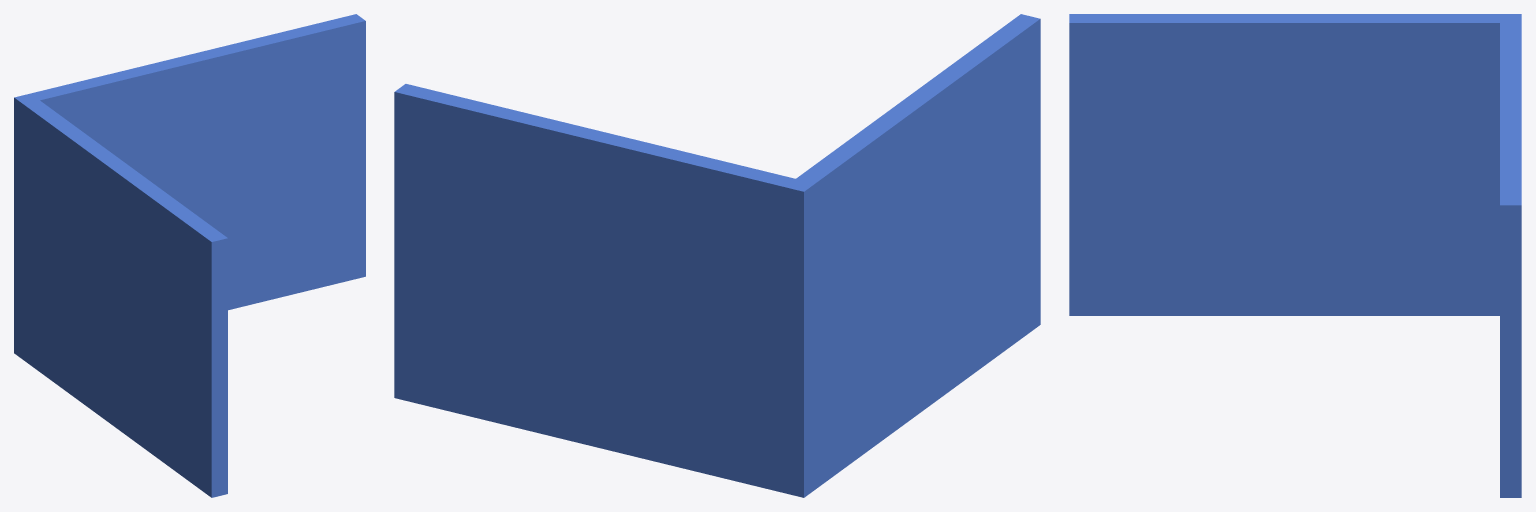
File: WallPipe_Corner_Square_Inner_Collision.fbx
3 views of the same model, side by side, from view 1: azimuth 30°, elevation 25°; view 2: azimuth 150°, elevation 25°; view 3: azimuth 270°, elevation 25° (orthographic). The views are drawn at different scales.
Visible parts, largest first — view 1: WallPipe_Corner_Square_Inner_Collision; view 2: WallPipe_Corner_Square_Inner_Collision; view 3: WallPipe_Corner_Square_Inner_Collision.
Part boxes in pixels (x1,y1,x2,y2): WallPipe_Corner_Square_Inner_Collision: (14, 14, 365, 497); WallPipe_Corner_Square_Inner_Collision: (394, 14, 1040, 497); WallPipe_Corner_Square_Inner_Collision: (1069, 14, 1521, 497).
Bounding box in the file's own units: 420 × 300 × 420.
